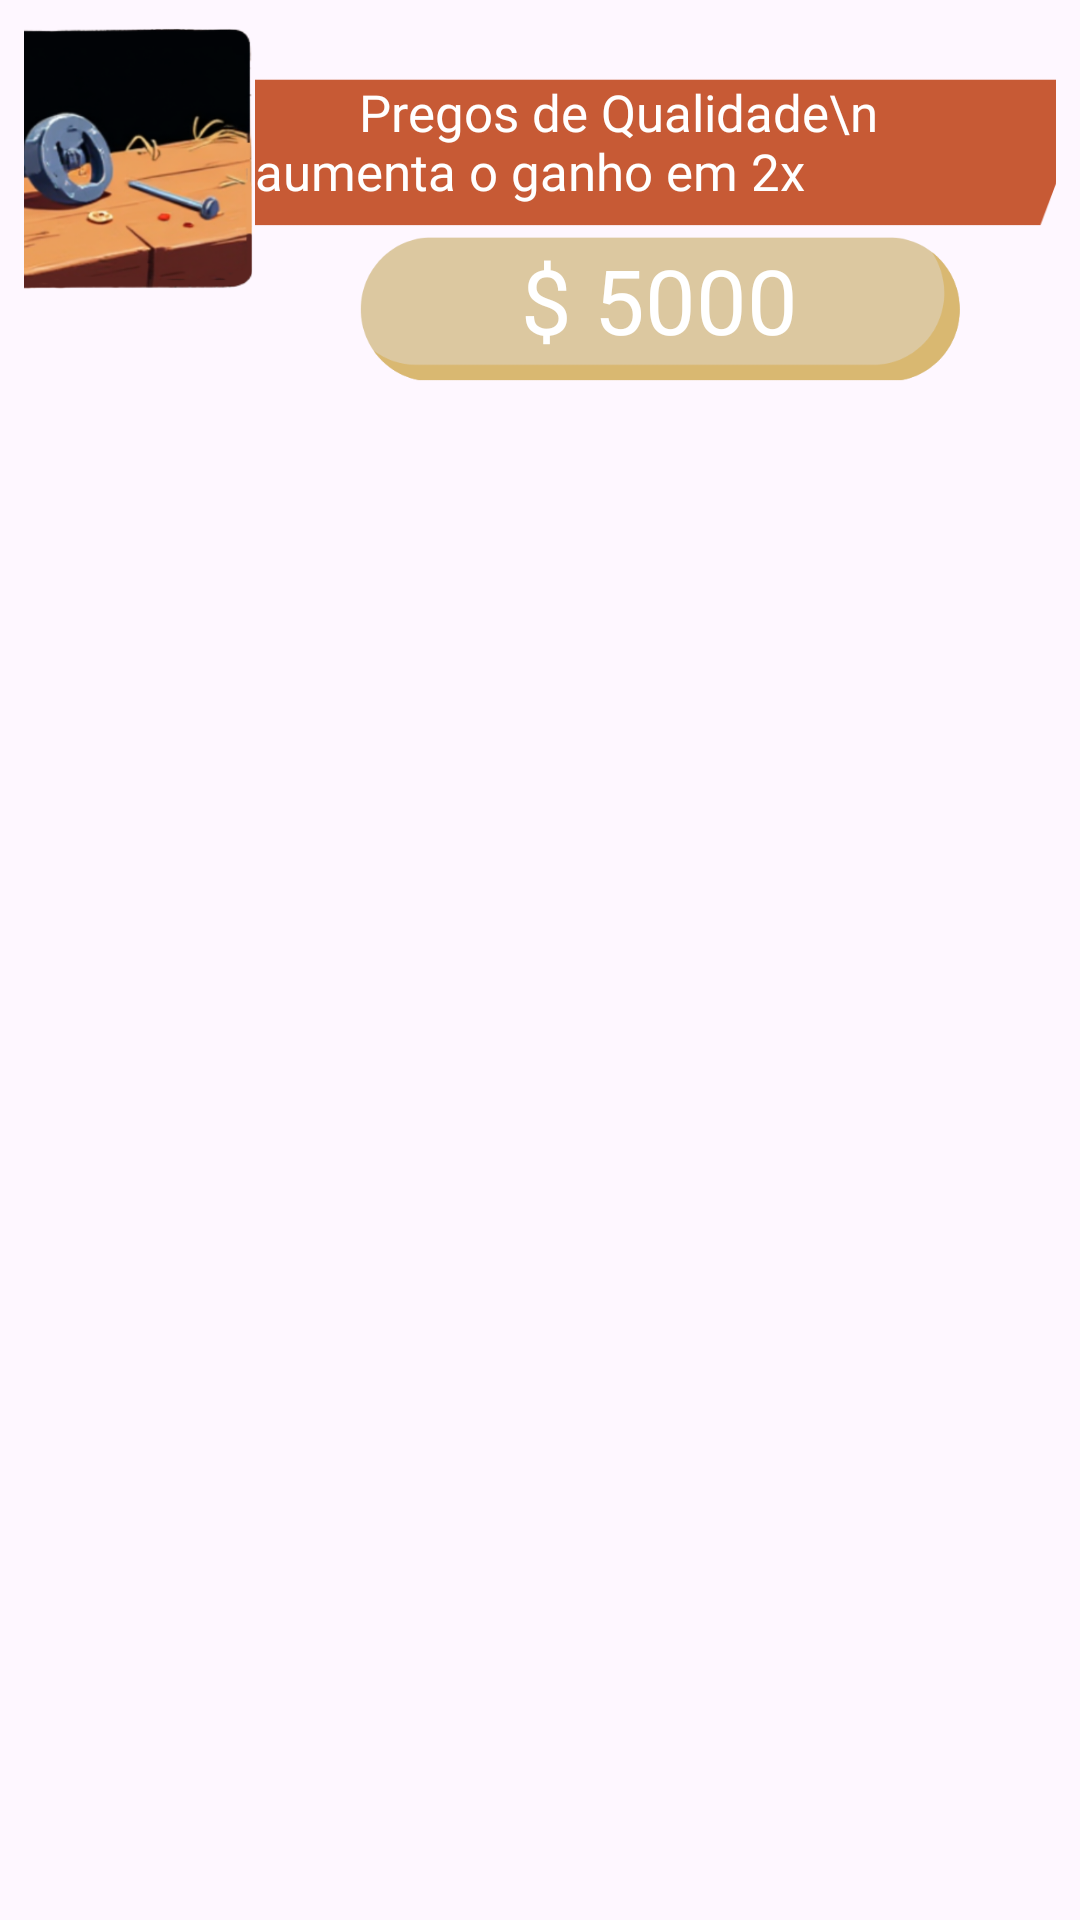

Locate icon controls on the screen. Image size 1080x1920, boxes as (x1, y1, x2, y2).
tool prego: (24, 29, 252, 289)
